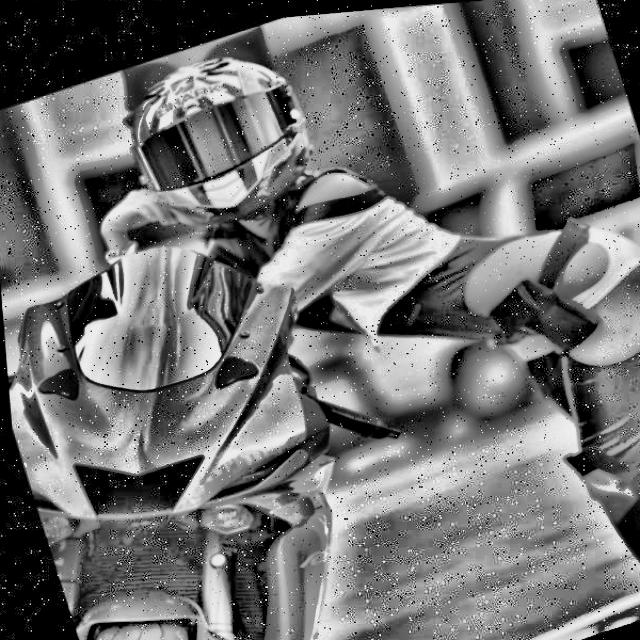Helmet: (99, 10, 334, 247)
